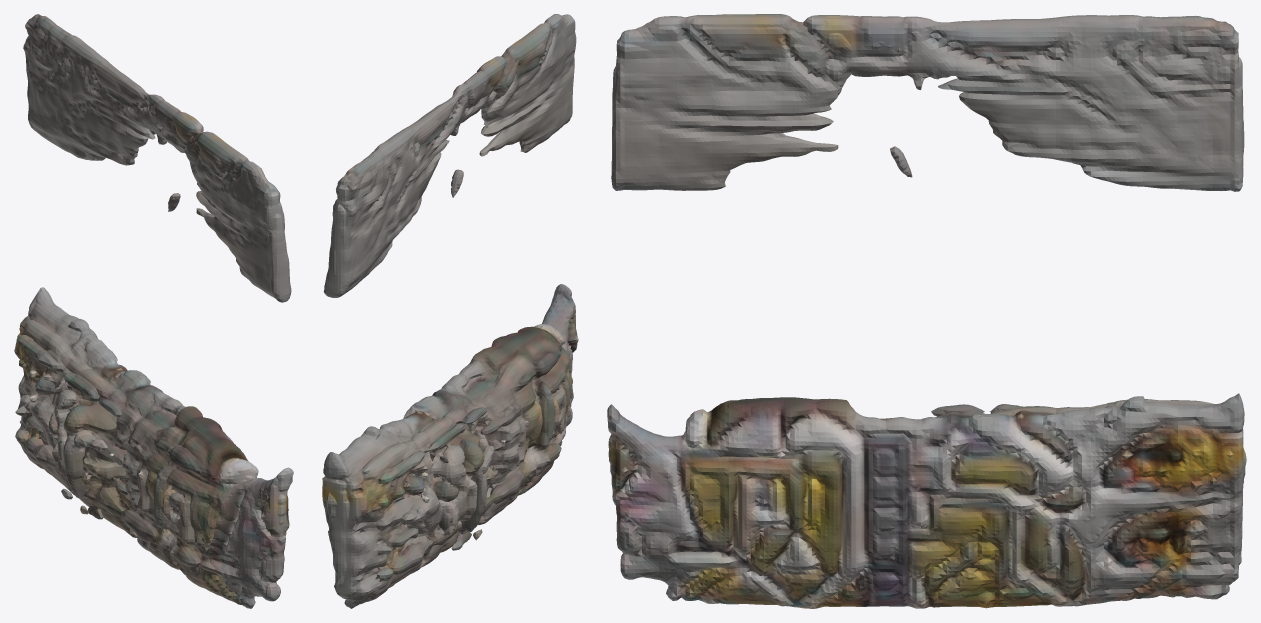
3 renders of one model, left to right at view 1: azimuth 30°, elevation 25°; view 2: azimuth 150°, elevation 25°; view 3: azimuth 270°, elevation 25°, orthographic. The views are drawn at different scales.
Parts seen in each view (by area): view 1: world; view 2: world; view 3: world.
Boxes of the visible parts, left/top/right/bottom form: world: left=14, top=14, right=293, bottom=608; world: left=322, top=14, right=578, bottom=608; world: left=607, top=14, right=1246, bottom=608.
Bounding box in the file's own units: 0.2038 × 1.02 × 1.
